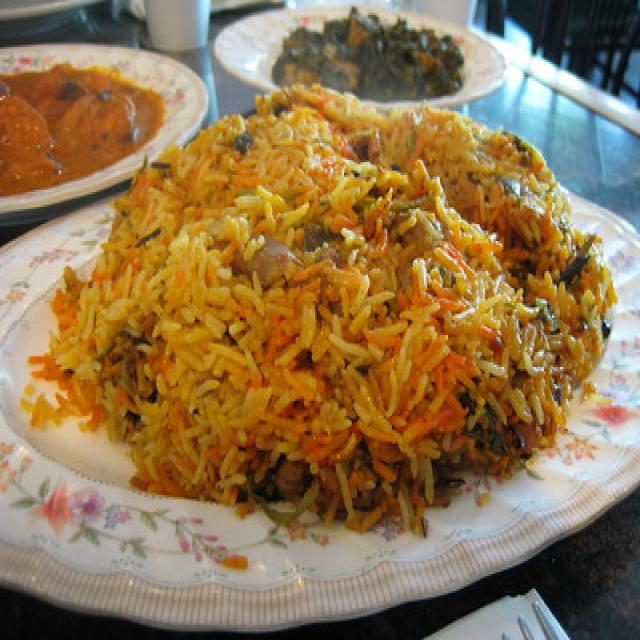Biryani: (74, 116, 573, 480)
